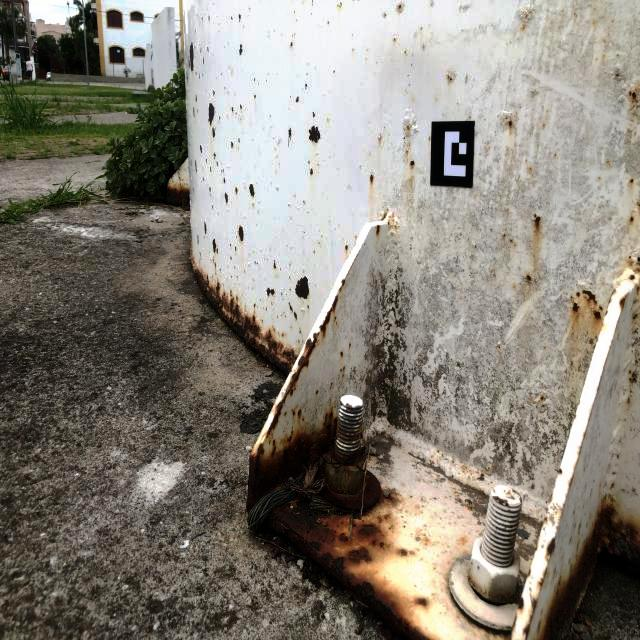Corrosion: (263, 443, 440, 640), (246, 331, 343, 514), (532, 477, 640, 640), (190, 240, 301, 376), (54, 297, 154, 407), (557, 339, 613, 524), (467, 573, 517, 604), (521, 588, 539, 640), (319, 295, 339, 339), (339, 252, 359, 293), (165, 179, 190, 211), (508, 597, 525, 640), (581, 289, 603, 321), (295, 275, 310, 300), (337, 425, 361, 440), (604, 289, 616, 315), (545, 537, 556, 562), (520, 10, 533, 31), (537, 567, 548, 590), (308, 125, 321, 144), (403, 119, 414, 138), (492, 495, 509, 507), (570, 295, 580, 315), (619, 293, 629, 313), (387, 212, 398, 229), (627, 87, 638, 103), (208, 102, 215, 127), (533, 213, 542, 232), (632, 255, 640, 275), (189, 41, 194, 72), (380, 207, 390, 222), (503, 489, 514, 501), (266, 286, 276, 298), (237, 226, 244, 242), (446, 73, 454, 85), (291, 404, 298, 417), (249, 183, 255, 198), (628, 255, 635, 267), (288, 127, 292, 147), (465, 501, 473, 511), (340, 366, 346, 379), (507, 119, 513, 131), (297, 407, 302, 421), (461, 465, 471, 472), (397, 2, 404, 12), (542, 516, 548, 527), (212, 238, 216, 254), (631, 298, 637, 308), (174, 167, 181, 175), (540, 394, 547, 402), (635, 284, 640, 295), (632, 314, 638, 323), (343, 403, 353, 408), (370, 174, 375, 184), (409, 160, 416, 167), (628, 274, 635, 281), (289, 301, 293, 313), (557, 467, 563, 475), (526, 274, 532, 282), (376, 225, 380, 236), (212, 127, 216, 138), (239, 44, 243, 55), (273, 259, 277, 269), (527, 568, 531, 578), (548, 492, 552, 502), (170, 174, 174, 184), (575, 290, 580, 298), (204, 221, 207, 234), (225, 191, 228, 204), (337, 0, 343, 6), (294, 310, 297, 321), (195, 159, 197, 174), (199, 144, 202, 154), (631, 378, 636, 384), (312, 111, 316, 118), (295, 96, 299, 103), (480, 471, 484, 478), (270, 299, 274, 306), (235, 186, 238, 195), (213, 151, 216, 160), (465, 76, 468, 85), (186, 71, 188, 84), (188, 56, 190, 69), (179, 176, 184, 181), (615, 72, 620, 77), (307, 302, 310, 310), (289, 41, 293, 47), (214, 262, 217, 270), (238, 14, 241, 22), (637, 198, 640, 206), (630, 178, 636, 182), (631, 216, 635, 222), (231, 141, 234, 148), (252, 307, 255, 314), (283, 411, 287, 416), (535, 542, 537, 552), (197, 235, 199, 245), (193, 108, 195, 118), (309, 0, 314, 4), (503, 233, 507, 238), (428, 135, 432, 140), (607, 159, 611, 164), (529, 165, 533, 170), (334, 316, 337, 322), (345, 245, 348, 251), (299, 328, 302, 334), (281, 332, 284, 338), (240, 104, 243, 110), (310, 168, 313, 174), (265, 306, 268, 312), (195, 95, 197, 103), (405, 150, 409, 154), (451, 459, 455, 463), (315, 390, 318, 395), (404, 50, 407, 55), (456, 362, 459, 367), (235, 245, 237, 252), (216, 247, 218, 254), (213, 90, 215, 97), (202, 176, 204, 182), (216, 161, 218, 167), (231, 106, 233, 112), (468, 115, 471, 119), (408, 141, 410, 147), (436, 450, 440, 453), (441, 453, 444, 457), (512, 490, 516, 493), (574, 415, 577, 419), (510, 239, 514, 242), (630, 371, 634, 374), (278, 139, 280, 144), (238, 138, 240, 143), (208, 15, 210, 20), (302, 418, 305, 421), (298, 339, 300, 343), (230, 256, 232, 260), (200, 252, 201, 260), (212, 275, 214, 279), (219, 268, 221, 272), (231, 16, 233, 20), (432, 461, 434, 465), (191, 160, 192, 166), (213, 258, 214, 263), (219, 115, 220, 120), (230, 243, 231, 247), (215, 272, 216, 276), (236, 236, 237, 239), (202, 17, 203, 20)
